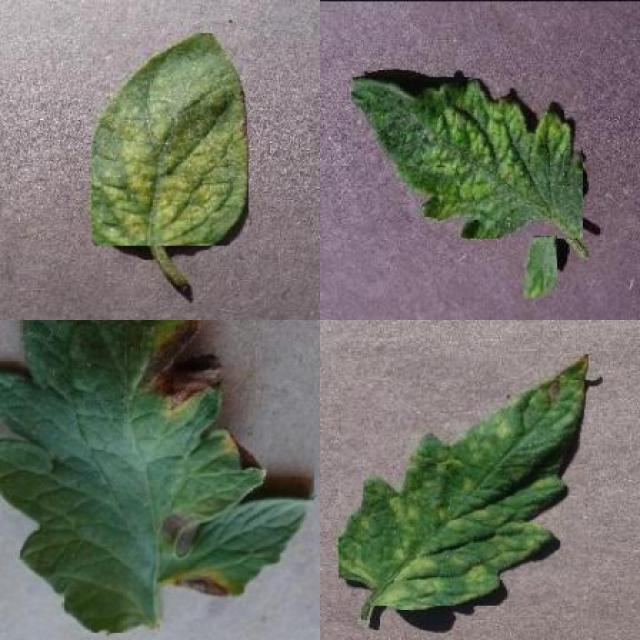Early Blight: (0, 320, 314, 633)
Leaf Mold: (338, 354, 588, 606)
Mosaic Virus: (350, 77, 583, 239), (521, 236, 558, 298)
Spider Mites: (92, 33, 248, 246)
